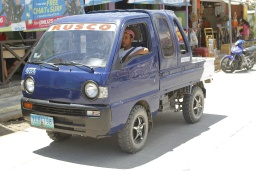car: (19, 5, 216, 153)
moto: (222, 38, 256, 74)
